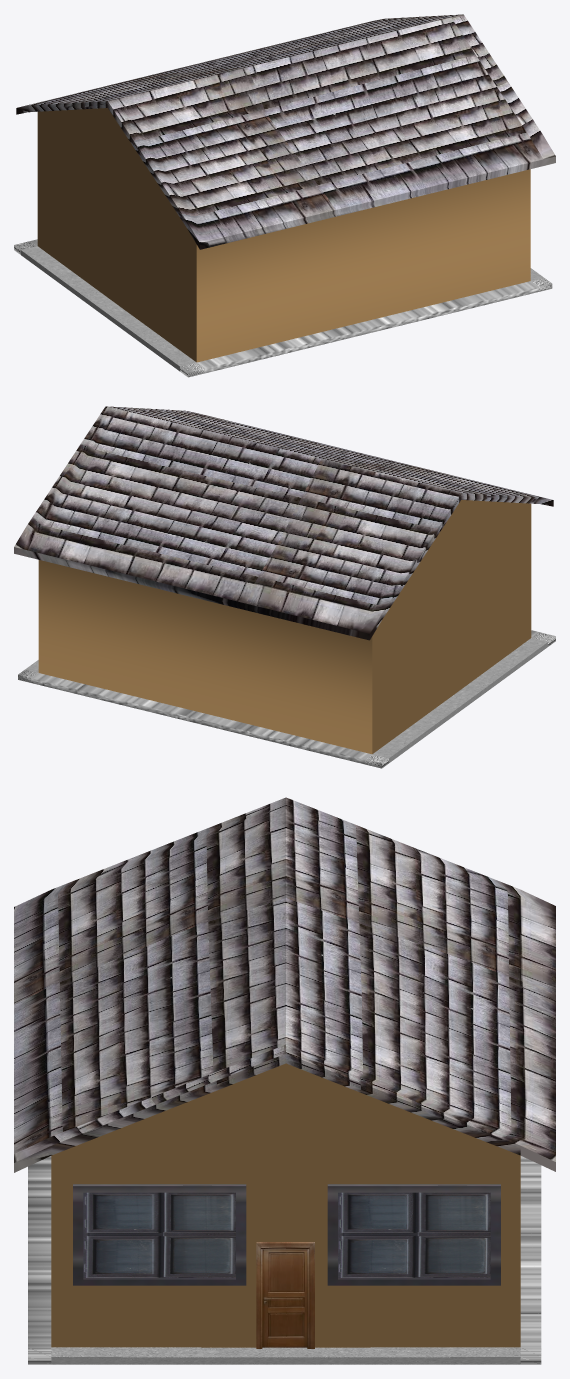
File: House1.fbx
3 views of the same model, one above another, from view 1: azimuth 30°, elevation 25°; view 2: azimuth 150°, elevation 25°; view 3: azimuth 270°, elevation 25° (orthographic). The views are drawn at different scales.
Visible parts, largest first — view 1: Cube; view 2: Cube; view 3: Cube, Cube.001, Cube.002.
Part boxes in pixels (<box>): Cube: <box>14,14,555,377</box>; Cube: <box>14,406,555,768</box>; Cube: <box>14,797,555,1364</box>; Cube.001: <box>73,1184,246,1285</box>; Cube.002: <box>327,1184,500,1285</box>.
Bounding box in the file's own units: 1137 × 628 × 994.
Materials: 6 (5 with a texture image).
